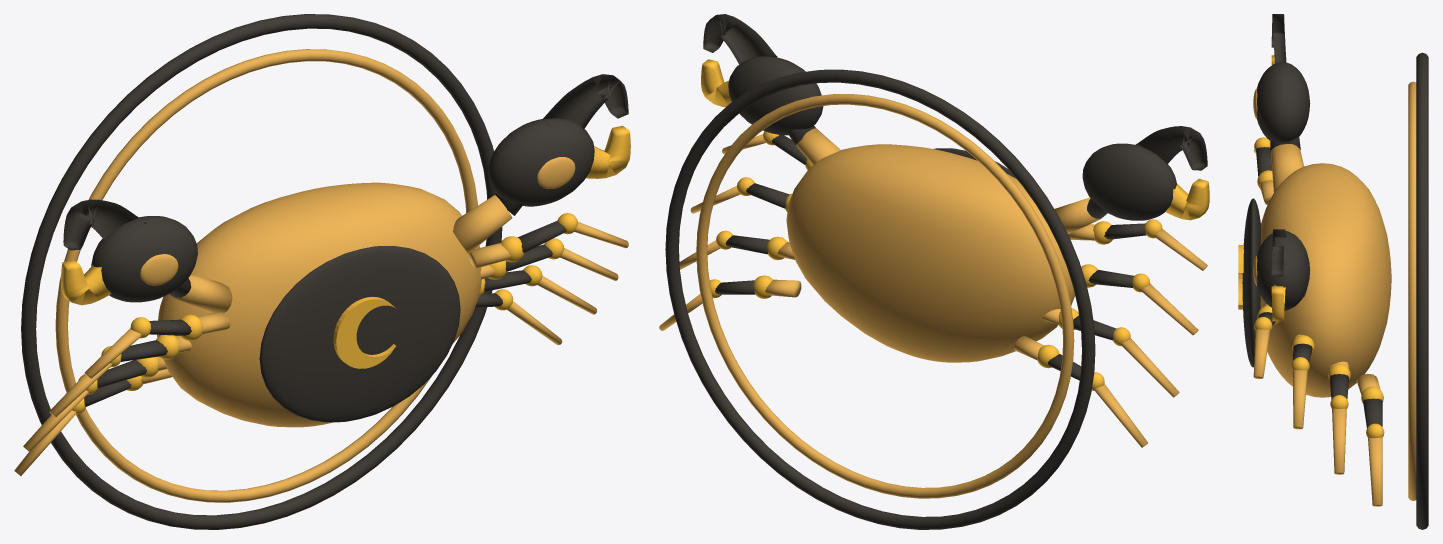
The model's file is cancer-machine.blockout-v2.glb.
3 renders of one model, left to right at view 1: azimuth 30°, elevation 25°; view 2: azimuth 150°, elevation 25°; view 3: azimuth 270°, elevation 25°, orthographic. The views are drawn at different scales.
Parts seen in each view (by area): view 1: crab_body, body_front_plate, ring_outer, ring_inner, claw_right_palm, claw_left_palm, pincer_right_upper, pincer_left_upper, cancer_mark, claw_right_arm, pincer_left_lower, pincer_right_lower (+9 smaller); view 2: crab_body, ring_outer, ring_inner, claw_left_palm, claw_right_palm, pincer_right_upper, pincer_left_upper, pincer_left_lower, pincer_right_lower, claw_right_arm, claw_left_arm, leg_left_04_lower (+2 smaller); view 3: crab_body, ring_outer, ring_inner, claw_left_palm, claw_right_palm, body_front_plate, claw_left_arm, leg_right_04_lower, leg_right_03_lower, leg_right_02_lower, pincer_left_upper, leg_right_01_lower (+10 smaller).
Boxes of the visible parts, <box> form: crab_body: <box>157,182,481,427</box>; body_front_plate: <box>259,246,460,422</box>; ring_outer: <box>21,14,502,529</box>; ring_inner: <box>55,49,477,502</box>; claw_right_palm: <box>488,118,594,206</box>; claw_left_palm: <box>91,216,197,302</box>; pincer_right_upper: <box>542,74,628,130</box>; pincer_left_upper: <box>63,199,146,250</box>; cancer_mark: <box>333,296,395,368</box>; claw_right_arm: <box>453,195,512,253</box>; pincer_left_lower: <box>61,259,111,305</box>; pincer_right_lower: <box>586,125,630,178</box>; crab_body: <box>786,144,1075,362</box>; ring_outer: <box>665,69,1095,529</box>; ring_inner: <box>696,94,1074,498</box>; claw_left_palm: <box>1082,143,1176,220</box>; claw_right_palm: <box>728,56,823,135</box>; pincer_right_upper: <box>703,14,777,64</box>; pincer_left_upper: <box>1135,126,1207,170</box>; pincer_left_lower: <box>1165,178,1209,220</box>; pincer_right_lower: <box>701,59,731,107</box>; claw_right_arm: <box>796,128,840,165</box>; claw_left_arm: <box>1054,197,1101,234</box>; leg_left_04_lower: <box>1094,384,1147,447</box>; crab_body: <box>1260,163,1391,397</box>; ring_outer: <box>1416,52,1428,529</box>; ring_inner: <box>1408,81,1416,500</box>; claw_left_palm: <box>1257,62,1310,142</box>; claw_right_palm: <box>1257,231,1310,310</box>; body_front_plate: <box>1242,198,1260,367</box>; claw_left_arm: <box>1271,144,1304,192</box>; leg_right_04_lower: <box>1368,437,1382,506</box>; leg_right_03_lower: <box>1332,408,1346,474</box>; leg_right_02_lower: <box>1293,370,1307,429</box>; pincer_left_upper: <box>1271,14,1286,63</box>; leg_right_01_lower: <box>1253,329,1270,378</box>.
Size of the model in its own units: 7.39 by 6.21 by 2.48.
